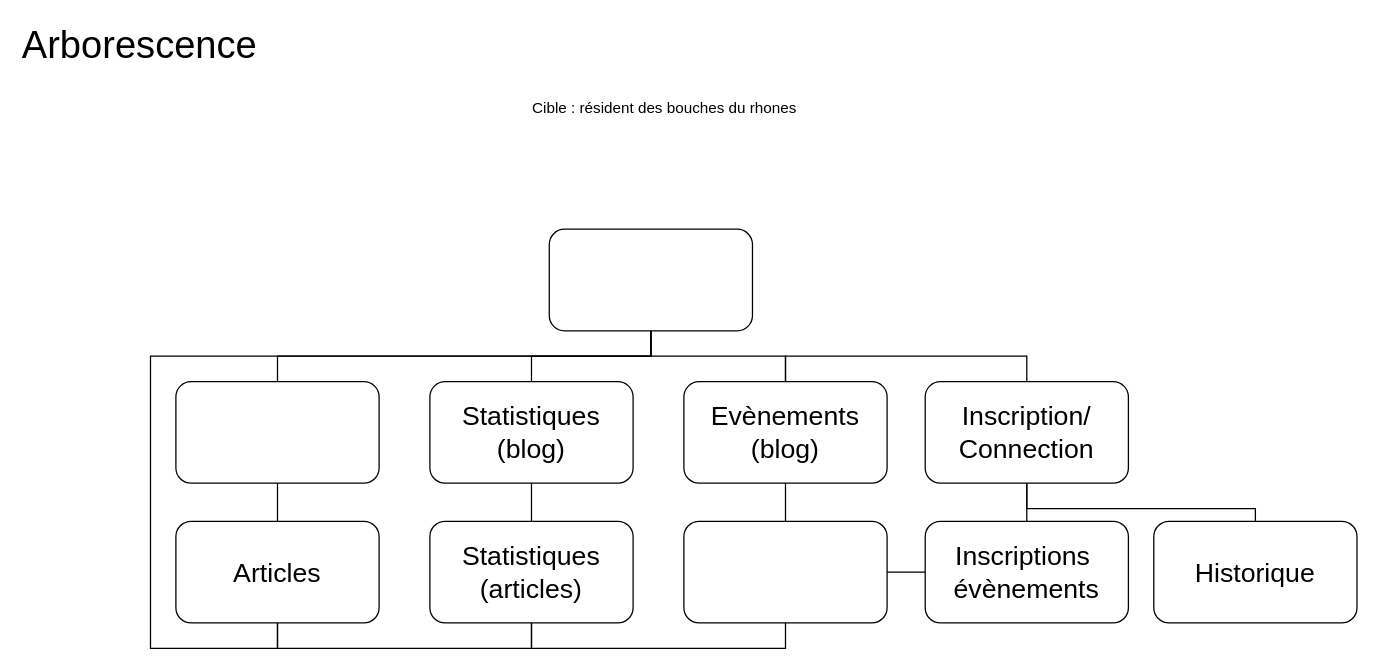
Image size: 1379x672. Some labels were removed from this diagram. Here are the shapes that lost their labels. From the top down, the centre of each, then its label:
the point at 650,279: Accueil
the point at 277,431: Articles (blog)
the point at 785,571: Evènements (articles)
